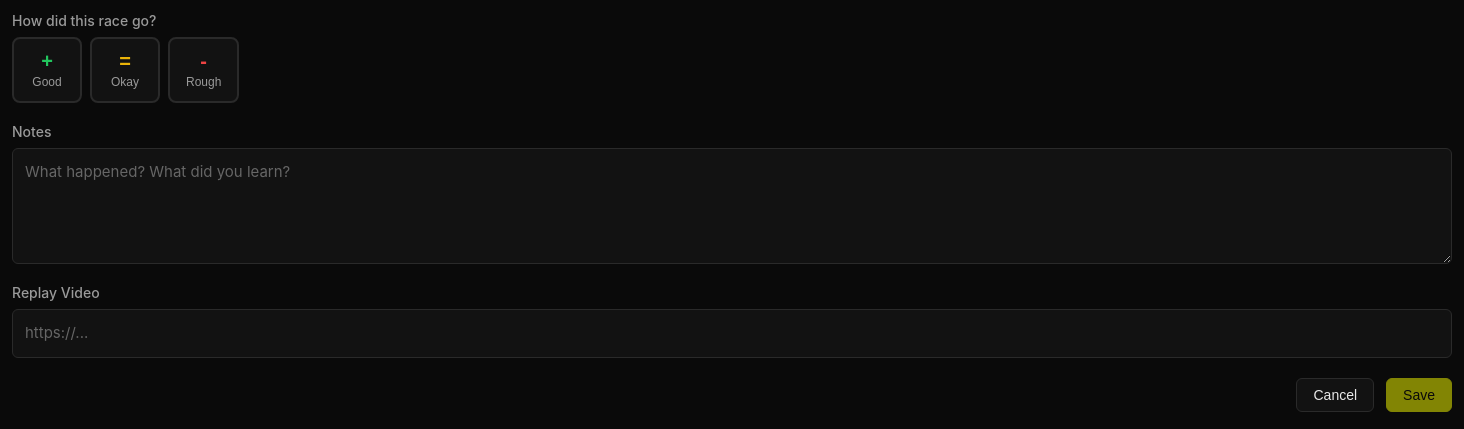
Test case: JournalEntryForm › enables save button when notes are entered
In the text box labelled "Notes": (732, 206) left=12, top=148, right=1452, bottom=264, type "Some notes"
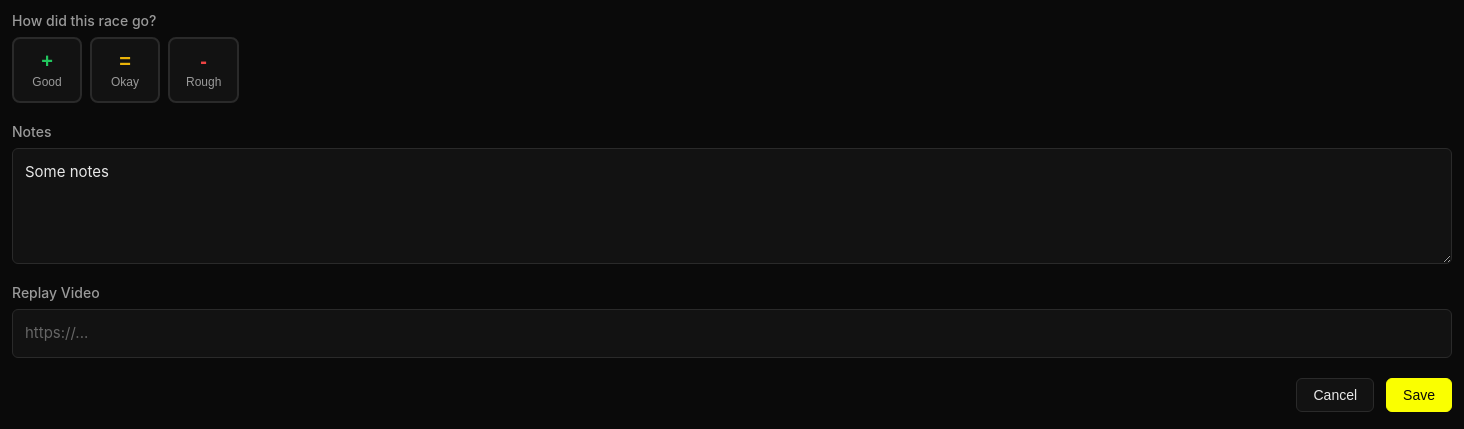
expect the button "Save" is enabled: met, box left=1386, top=378, right=1452, bottom=412
